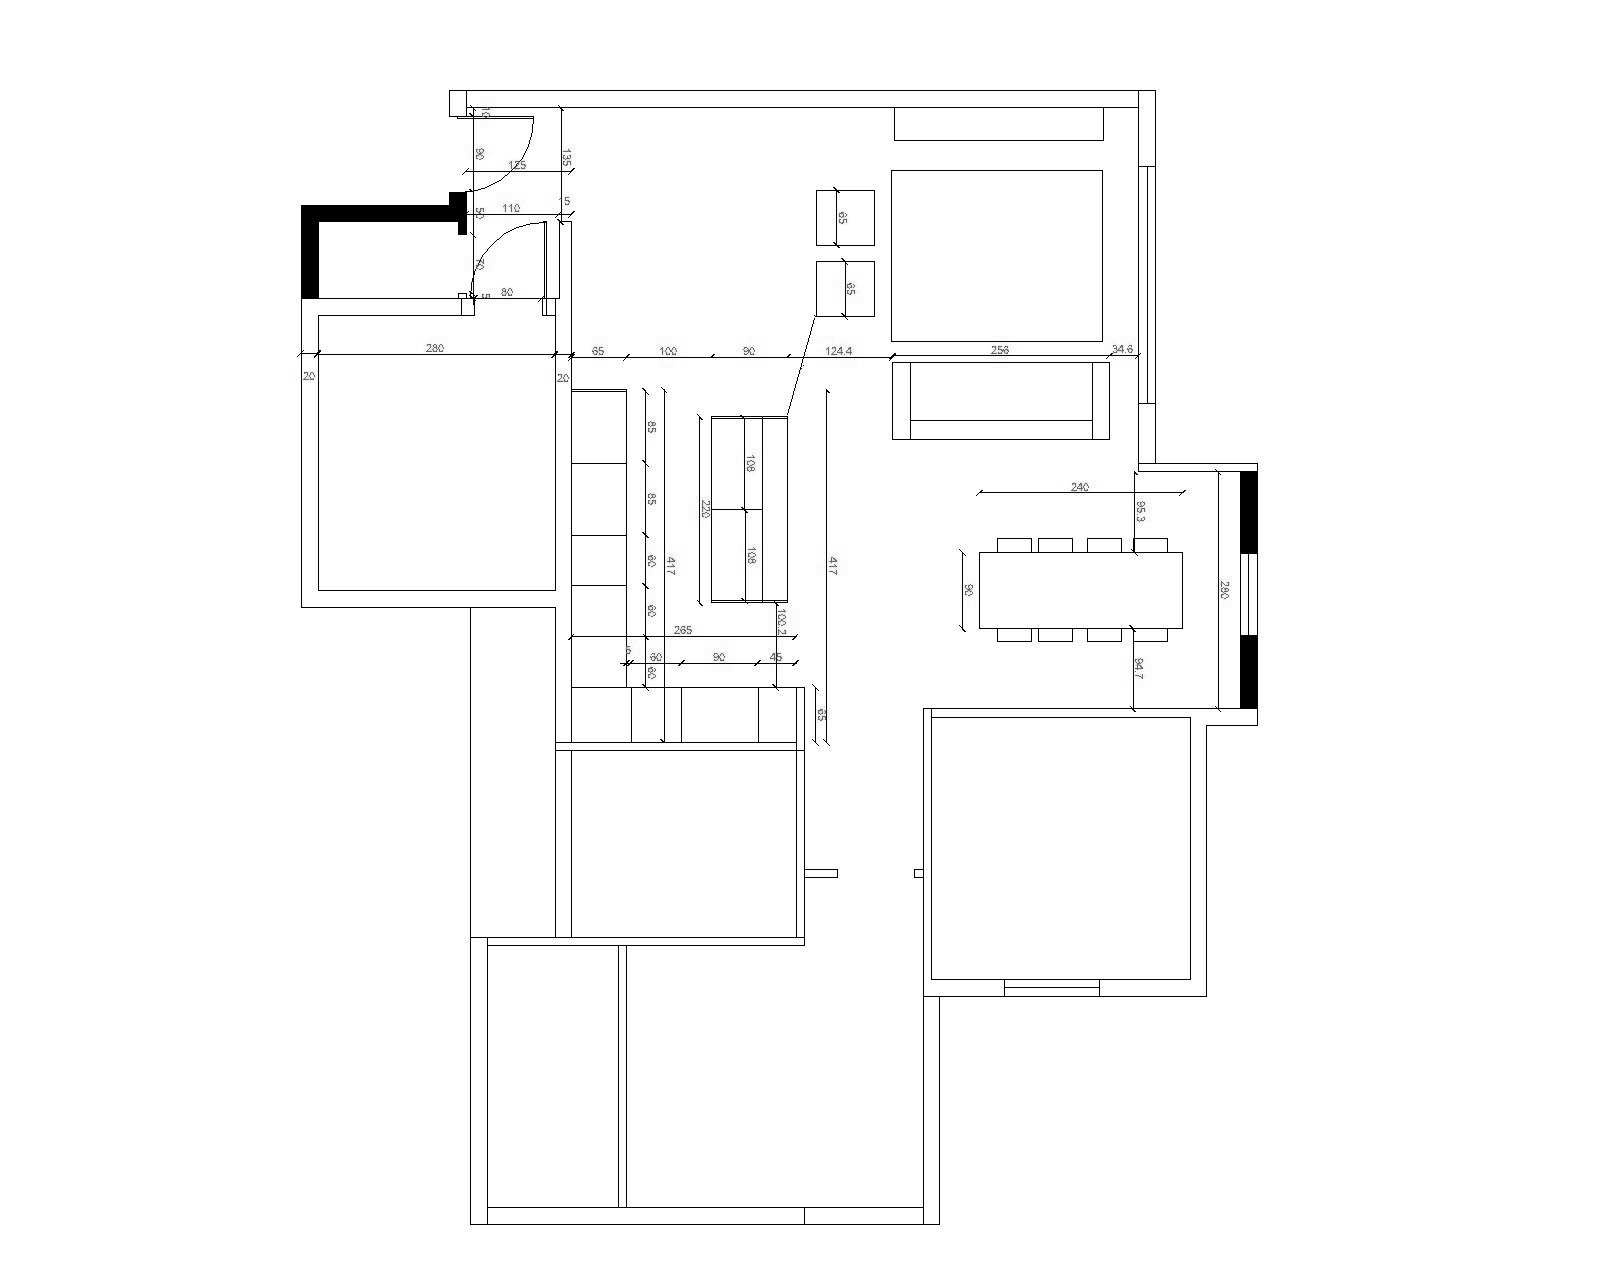door: (472, 223, 554, 316), (457, 108, 539, 201)
window: (1142, 155, 1155, 413), (990, 977, 1126, 995), (1241, 541, 1255, 644)
